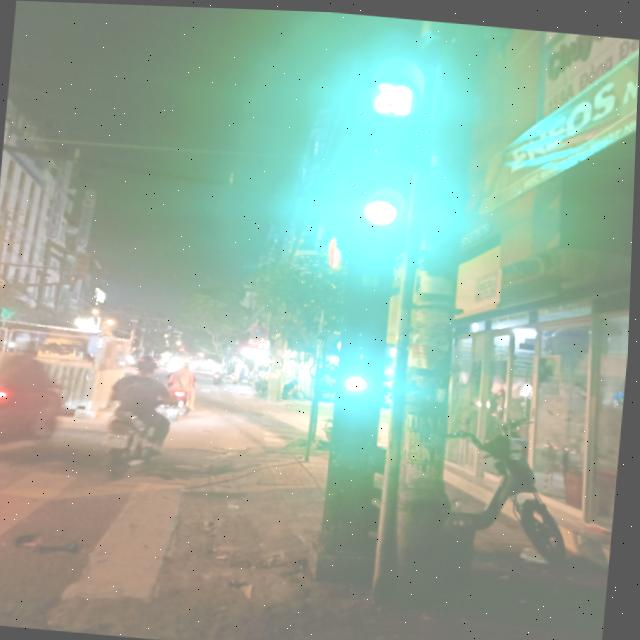Green: (353, 115, 414, 235), (340, 322, 392, 404)
